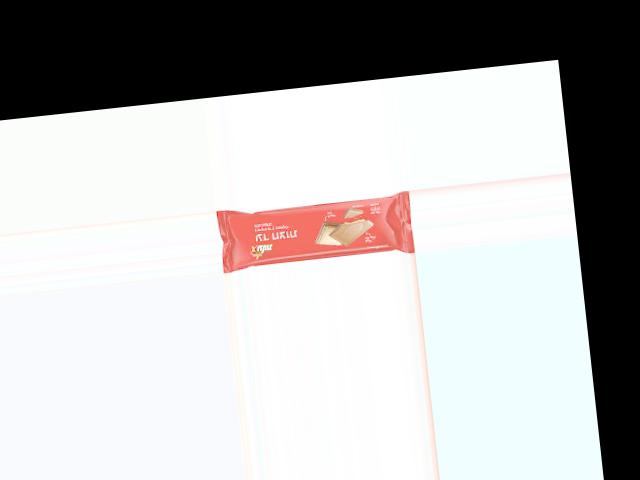chocolate: (221, 189, 413, 272)
